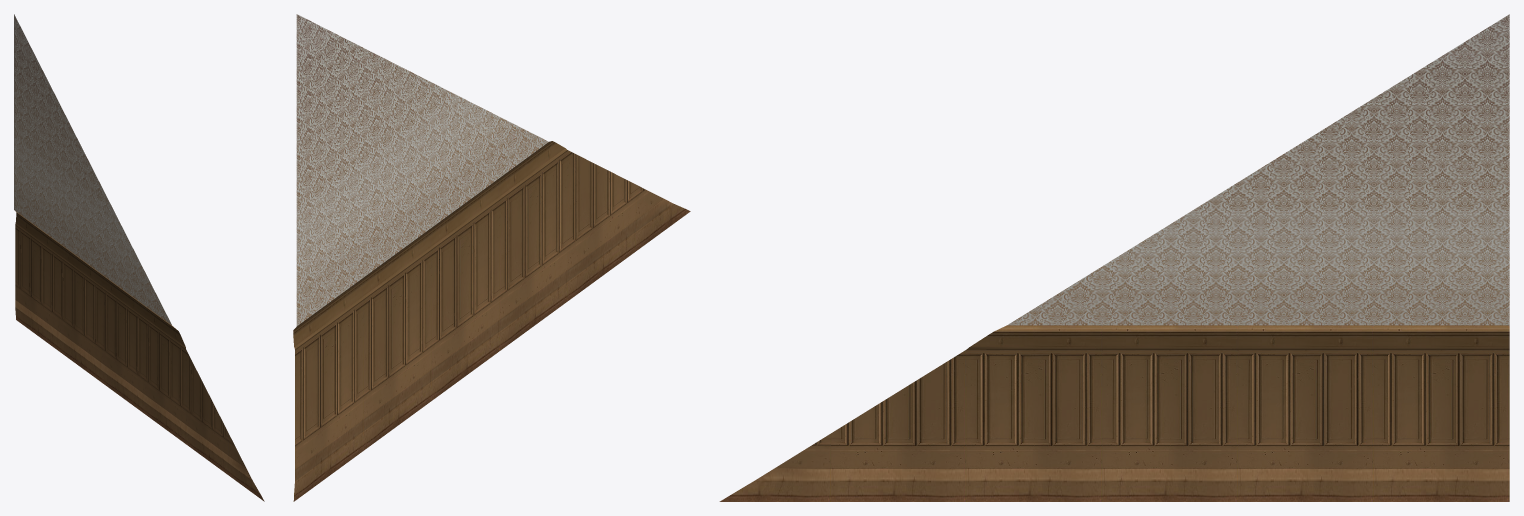
The model's file is 5m_wall_stairs_blend.fbx.
3 renders of one model, left to right at view 1: azimuth 30°, elevation 25°; view 2: azimuth 150°, elevation 25°; view 3: azimuth 270°, elevation 25°, orthographic. The views are drawn at different scales.
Visible parts, largest first — view 1: wall5m_stairs_blend; view 2: wall5m_stairs_blend; view 3: wall5m_stairs_blend.
Part boxes in pixels (left/top/right/bottom): wall5m_stairs_blend: left=14, top=14, right=264, bottom=501; wall5m_stairs_blend: left=293, top=14, right=690, bottom=501; wall5m_stairs_blend: left=719, top=14, right=1509, bottom=501.
Bounding box in the file's own units: 2.98 × 396 × 582.
Materials: 1 (1 with a texture image).
